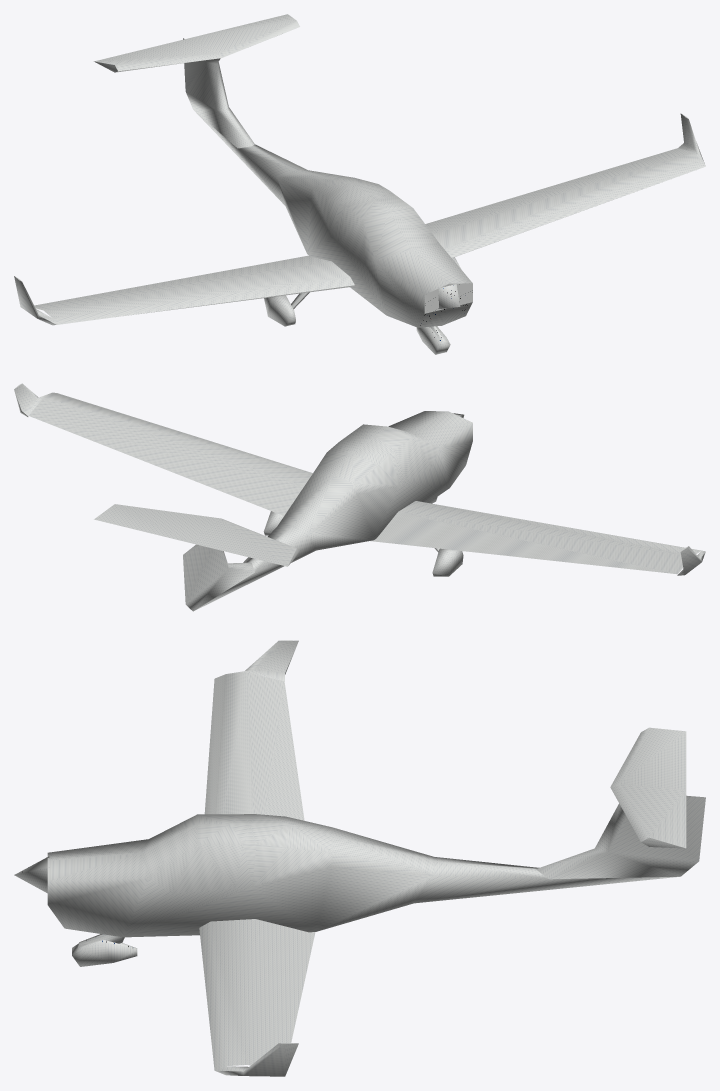
The picture shows the model from 3 angles, top to bottom: view 1: azimuth 30°, elevation 25°; view 2: azimuth 150°, elevation 25°; view 3: azimuth 270°, elevation 25°; orthographic projection. The views are drawn at different scales.
Visible parts, largest first — view 1: FUSELAGE; view 2: FUSELAGE; view 3: FUSELAGE.
Boxes of the visible parts, x1,y1,x2,y2 form: FUSELAGE: (14,14,705,354); FUSELAGE: (14,383,705,611); FUSELAGE: (14,640,705,1076).
Bounding box in the file's own units: 11.73 × 2.41 × 8.5.
